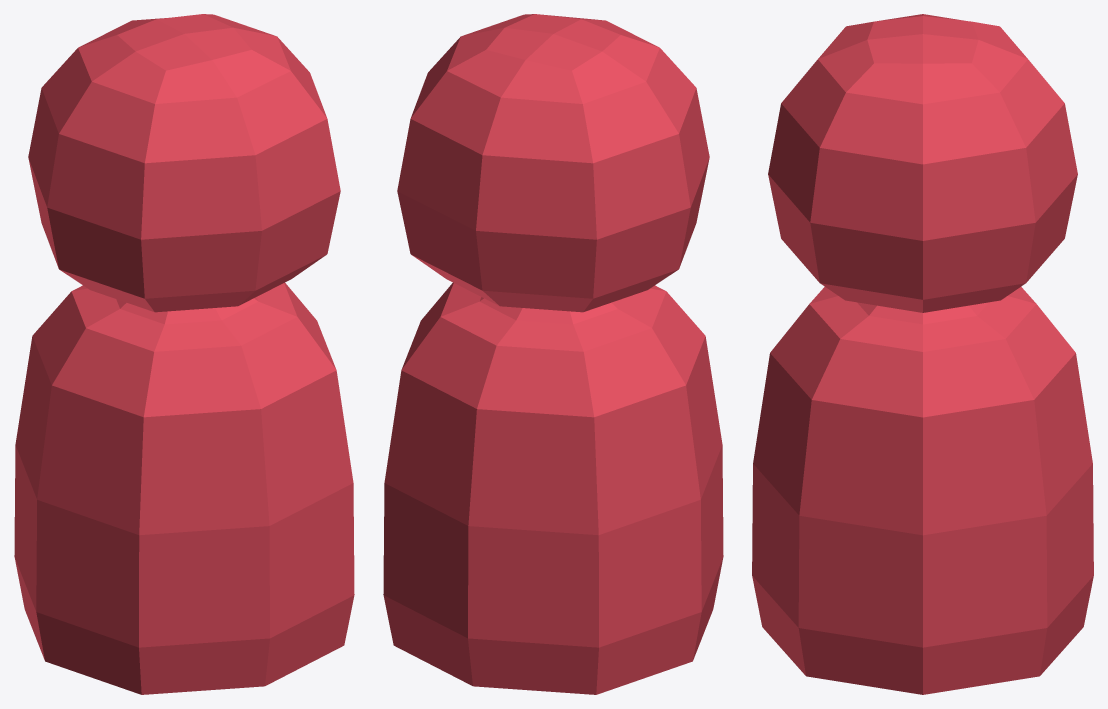
Rendered from Personnel.gltf.
3 renders of one model, left to right at view 1: azimuth 30°, elevation 25°; view 2: azimuth 150°, elevation 25°; view 3: azimuth 270°, elevation 25°, orthographic.
Visible parts, largest first — view 1: Cube; view 2: Cube; view 3: Cube.
Part boxes in pixels (<box>): Cube: <box>14,14,354,694</box>; Cube: <box>383,14,723,694</box>; Cube: <box>752,14,1093,694</box>.
Size of the model in its own units: 0.472 by 0.9203 by 0.472.
